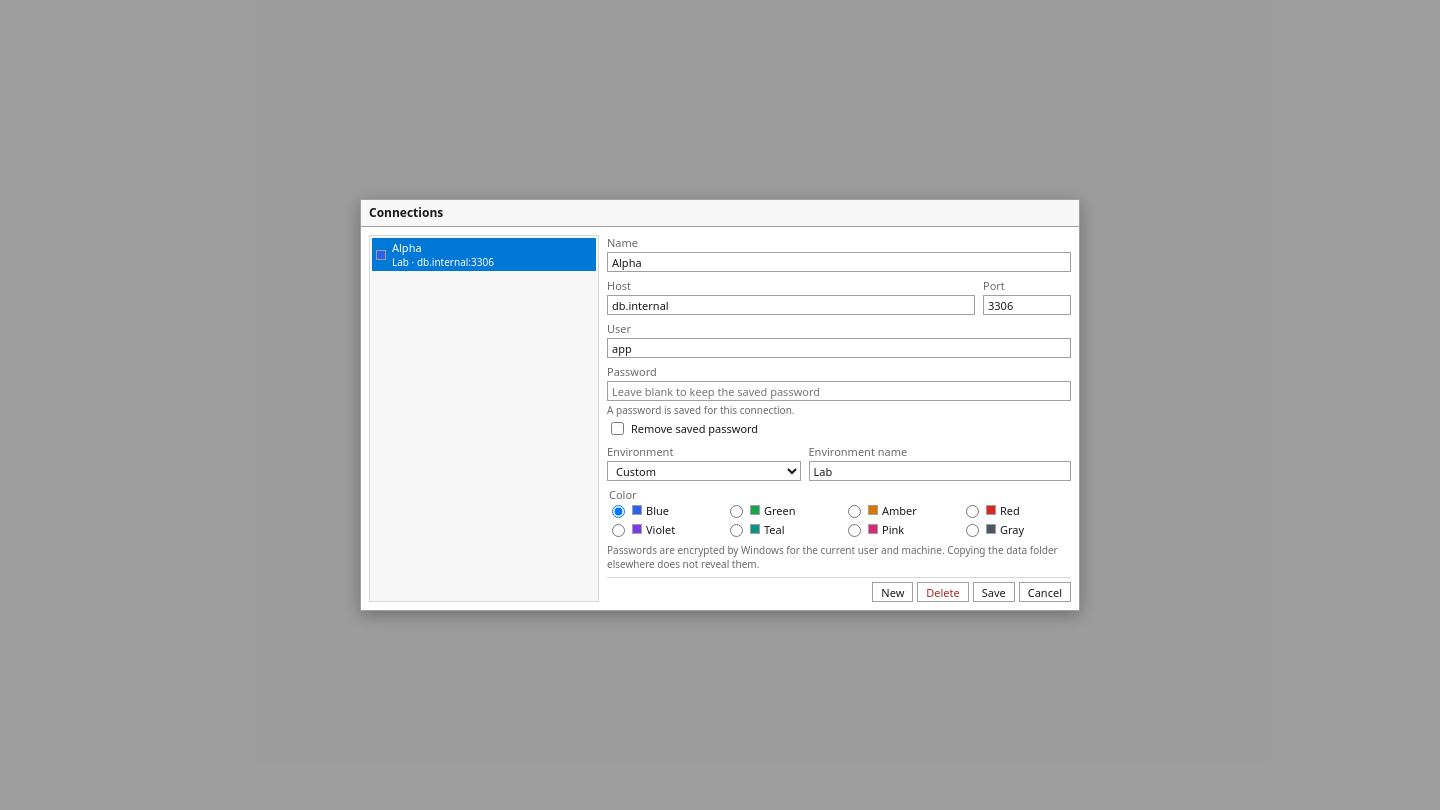
Test case: ConnectionsDialog › confirms deletion in two steps before reloading the list
Click the button "Delete". click: (943, 592)
box: 917,582 -> 969,602
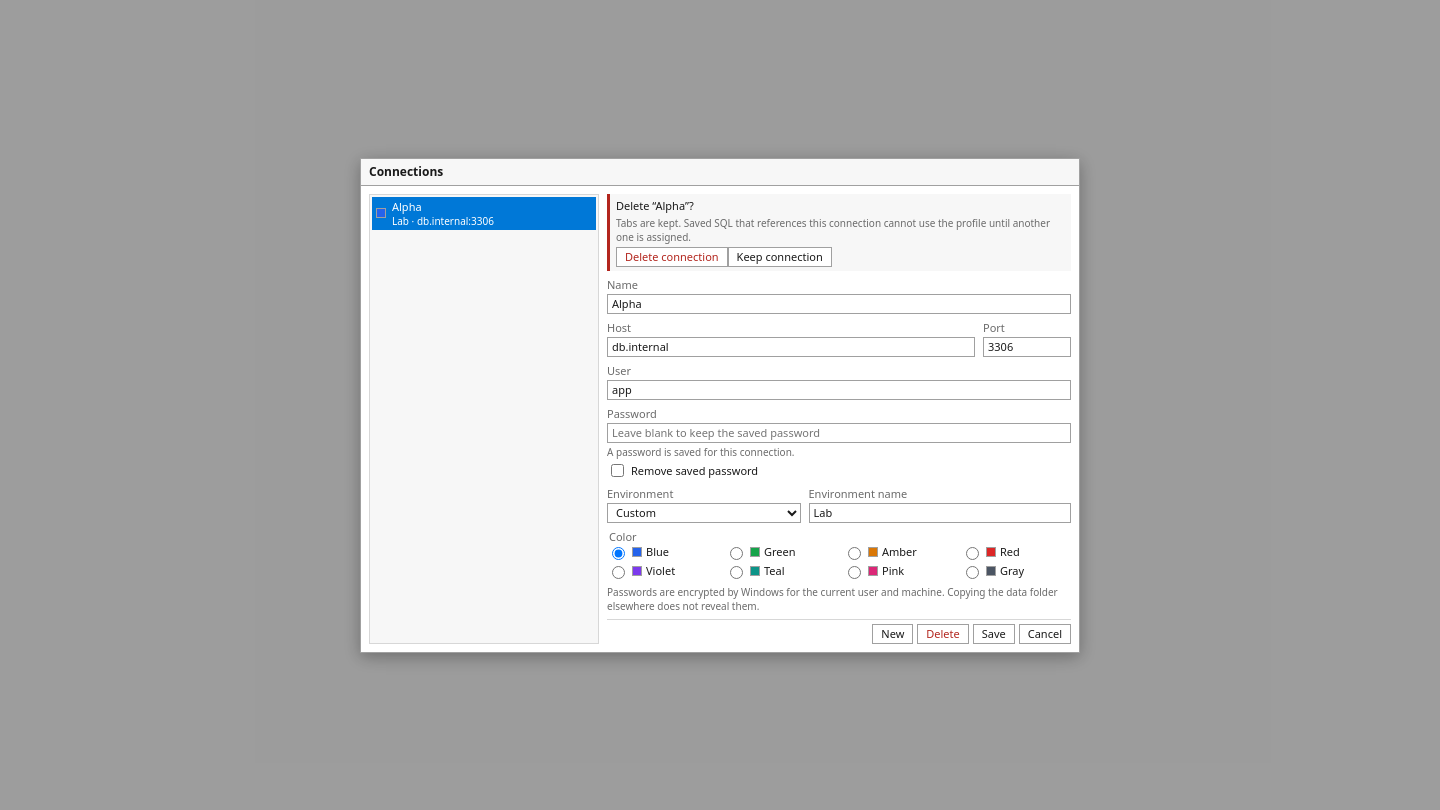
Result: the text "Delete “Alpha”?" is shown at 616,198 -> 694,212
Result: the text "Tabs are kept" is shown at 616,216 -> 1050,244
Click the button "Keep connection". click: (780, 256)
box: 728,246 -> 832,266
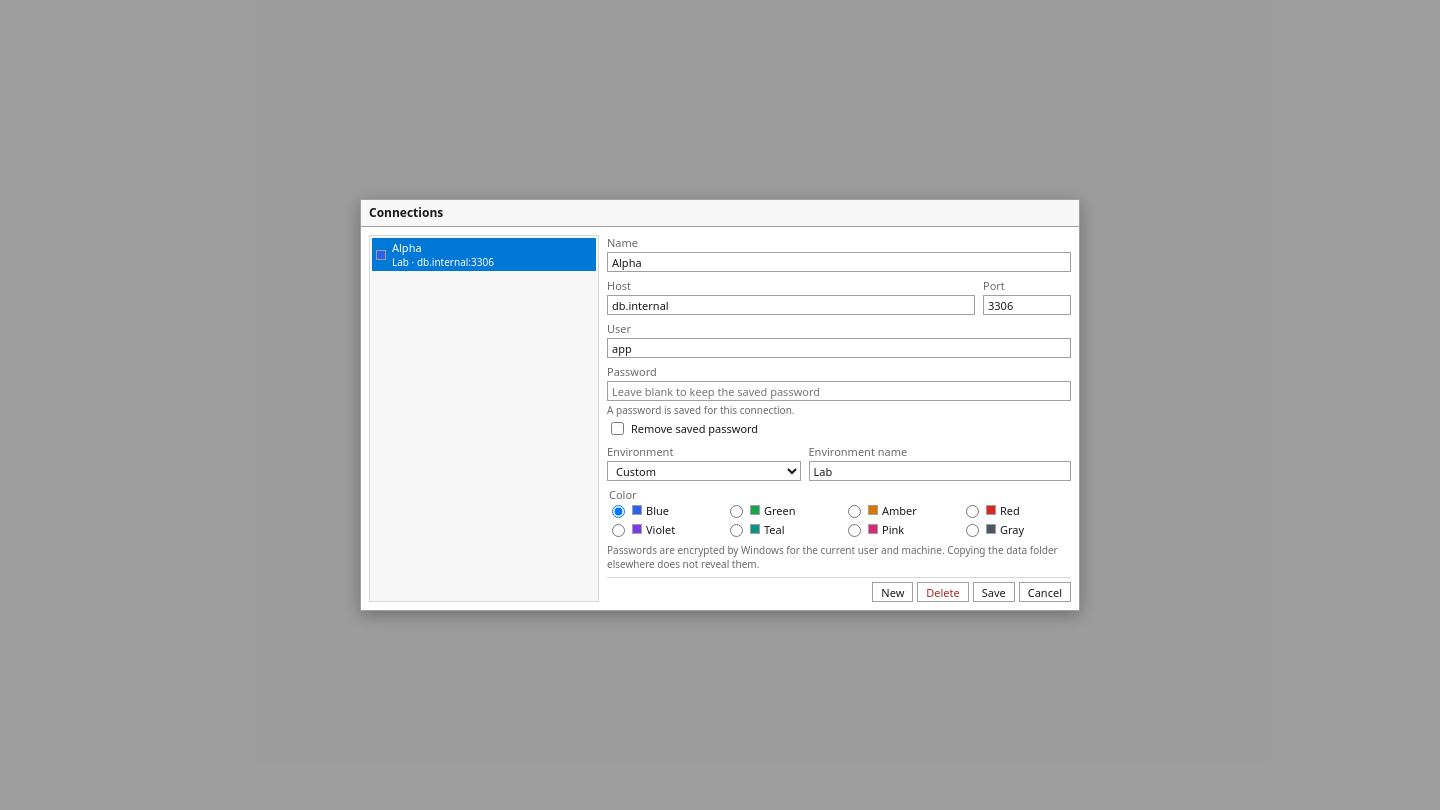
Result: the text "Delete “Alpha”?" is gone
Click the button "Delete". click: (943, 592)
box: 917,582 -> 969,602
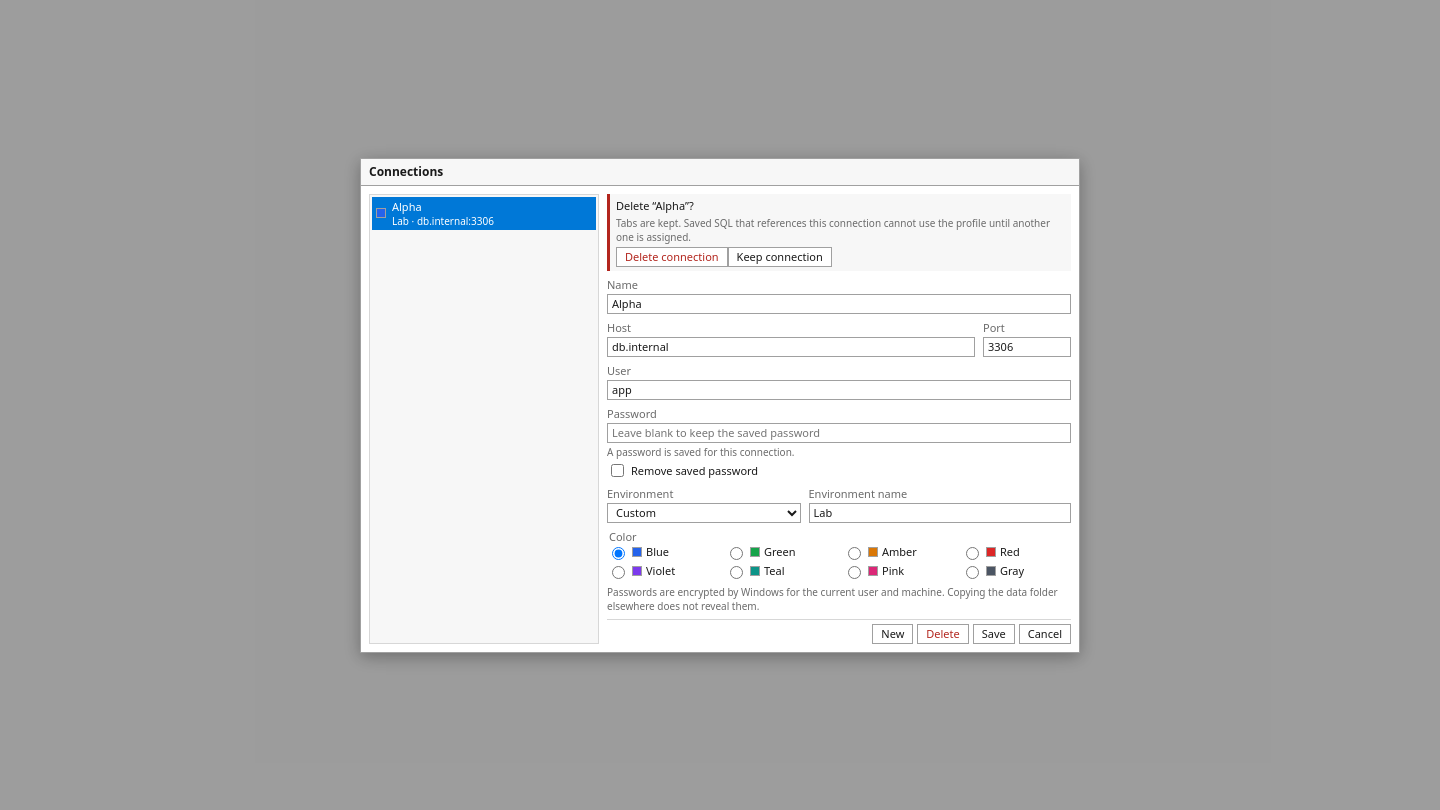
Click the button "Delete connection". click: (672, 256)
box: 616,246 -> 728,266
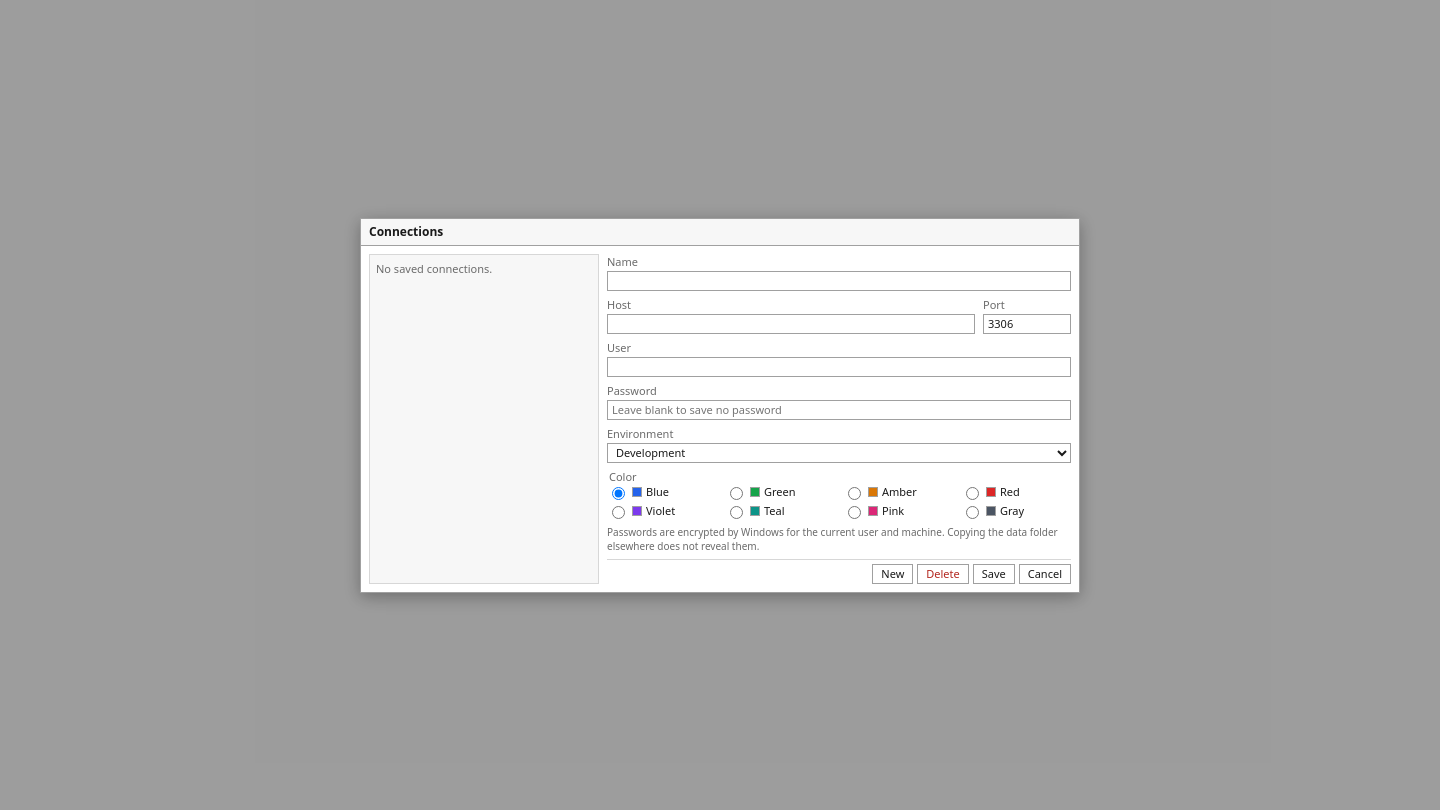
Result: the text "No saved connections." is shown at 376,260 -> 492,276
